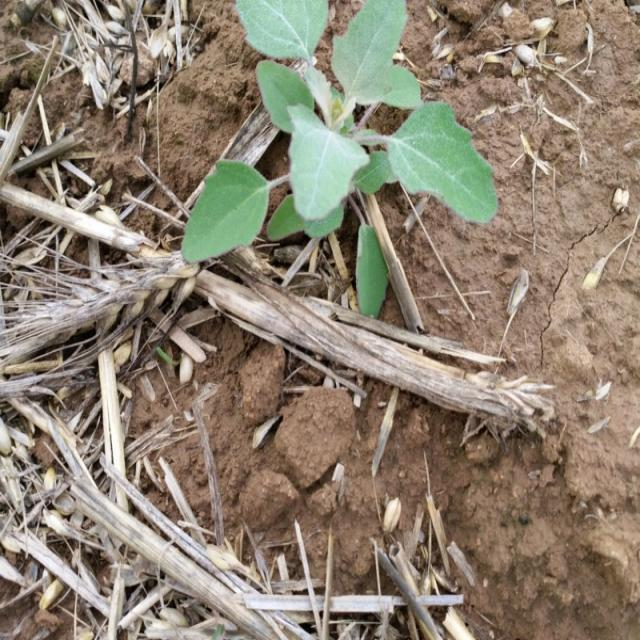goosefoots: (175, 0, 493, 299)
